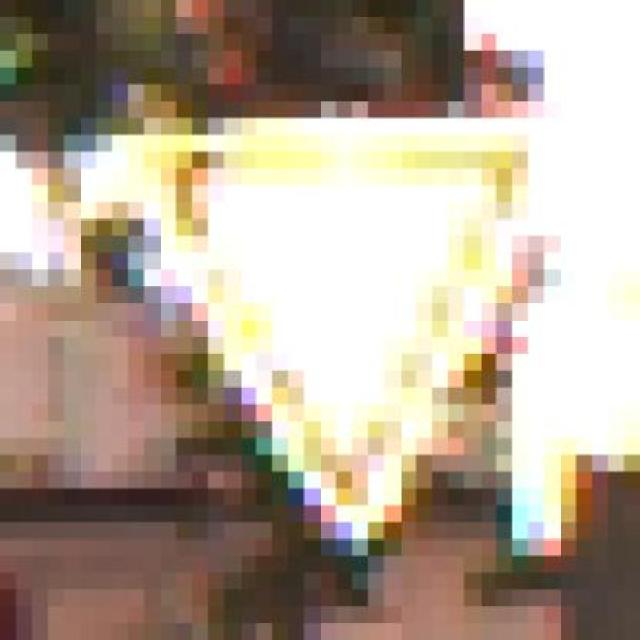Give Way: (80, 84, 528, 607)
